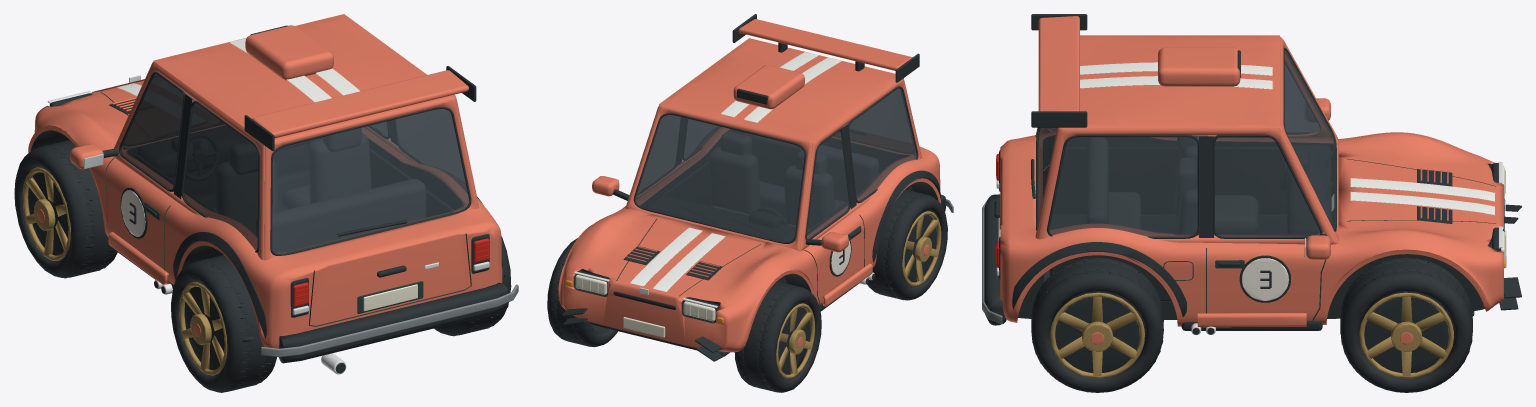
The model's file is kaminari_lod1.fbx.
The picture shows the model from 3 angles, left to right: view 1: azimuth 30°, elevation 25°; view 2: azimuth 150°, elevation 25°; view 3: azimuth 270°, elevation 25°; orthographic projection. The views are drawn at different scales.
Parts seen in each view (by area): view 1: Body, Wheel_RL_Mesh, Wheel_FL_Mesh, Wheel_RR_Mesh; view 2: Body, Wheel_FL_Mesh, Wheel_RL_Mesh, Wheel_FR_Mesh; view 3: Body, Wheel_FR_Mesh, Wheel_RR_Mesh.
Boxes of the visible parts, box(x1,y1,x2,y2) form: Body: box(28, 14, 518, 374); Wheel_RL_Mesh: box(171, 255, 276, 392); Wheel_FL_Mesh: box(14, 140, 117, 278); Wheel_RR_Mesh: box(434, 236, 511, 336); Body: box(558, 14, 953, 361); Wheel_FL_Mesh: box(734, 281, 821, 392); Wheel_RL_Mesh: box(867, 189, 947, 300); Wheel_FR_Mesh: box(547, 238, 617, 347); Body: box(982, 14, 1521, 334); Wheel_FR_Mesh: box(1340, 257, 1472, 392); Wheel_RR_Mesh: box(1031, 257, 1163, 392).
Size of the model in its own units: 240 by 204 by 367.
